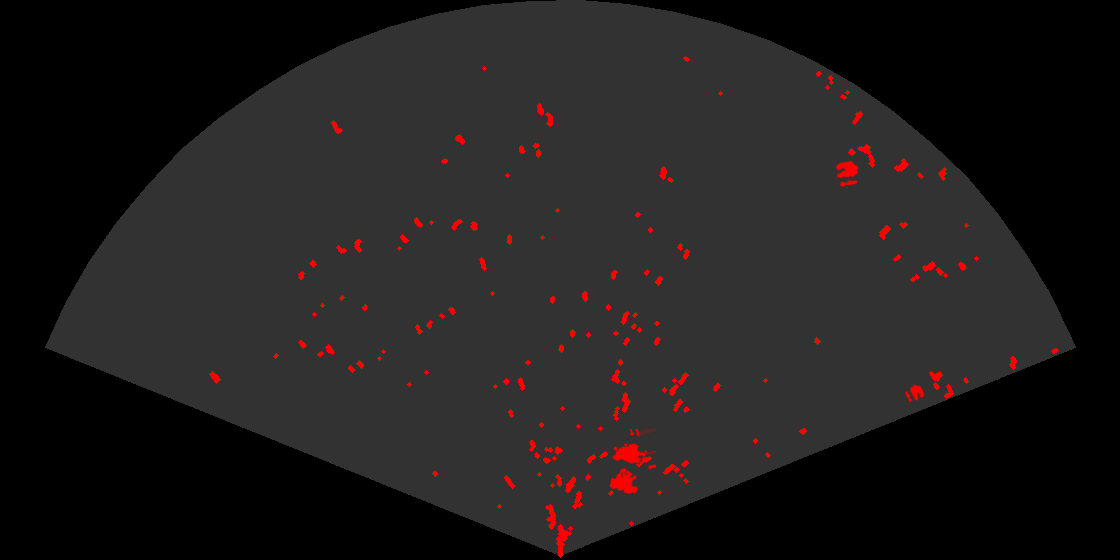ball: (834, 159, 860, 188), (903, 383, 926, 404)
cage: (608, 429, 656, 496)
